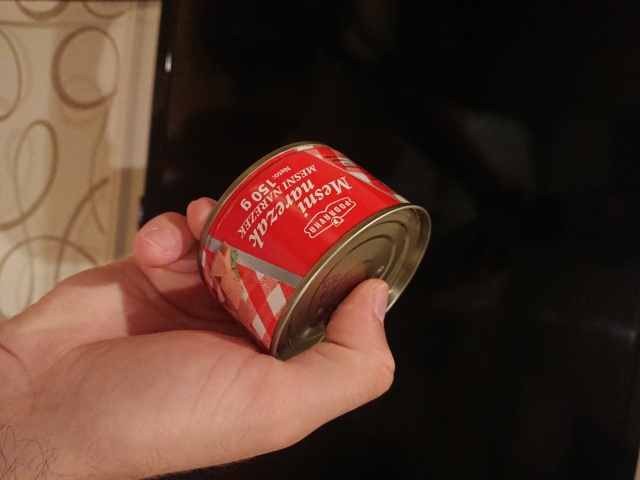Podravka Luncheon Meat 150g: (194, 135, 435, 365)
